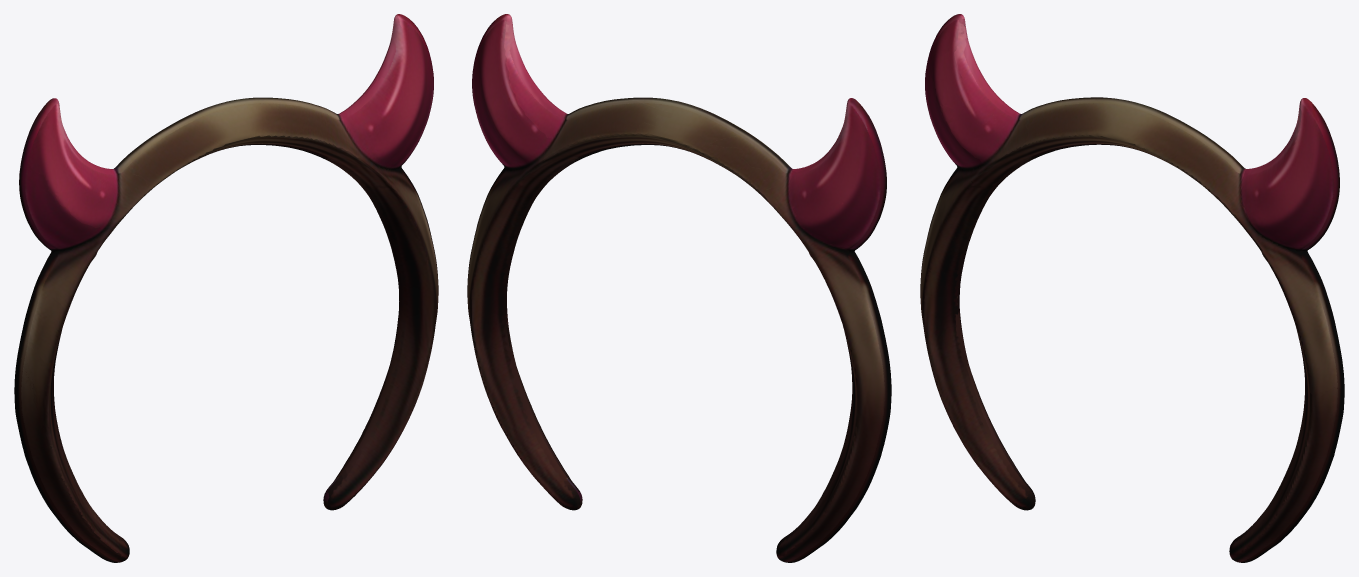
Rendered from item_devil_horns.glb.
3 views of the same model, side by side, from view 1: azimuth 30°, elevation 25°; view 2: azimuth 150°, elevation 25°; view 3: azimuth 330°, elevation 25° (orthographic).
Visible parts, largest first — view 1: tmp5ow6pz3r.ply; view 2: tmp5ow6pz3r.ply; view 3: tmp5ow6pz3r.ply.
Boxes of the visible parts, x1,y1,x2,y2 form: tmp5ow6pz3r.ply: (14,14,438,562); tmp5ow6pz3r.ply: (467,14,891,562); tmp5ow6pz3r.ply: (920,14,1344,562).
Size of the model in its own units: 1.81 by 1.96 by 0.2261.
1 material, 1 textured.
